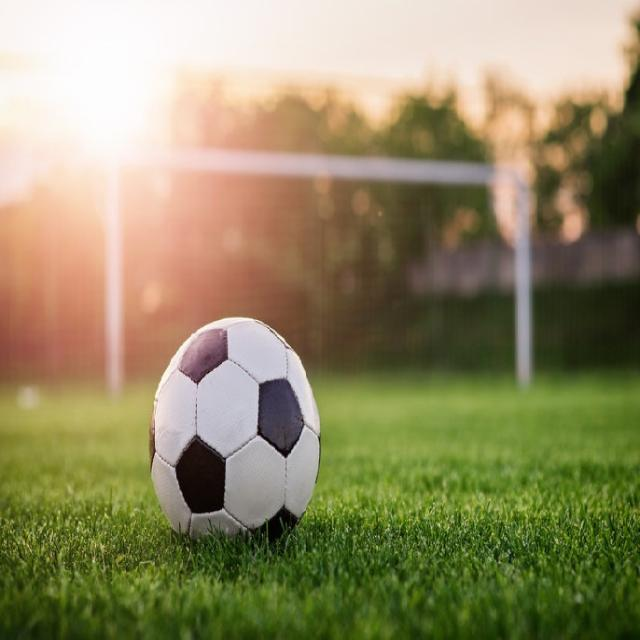ball: (147, 316, 322, 548)
